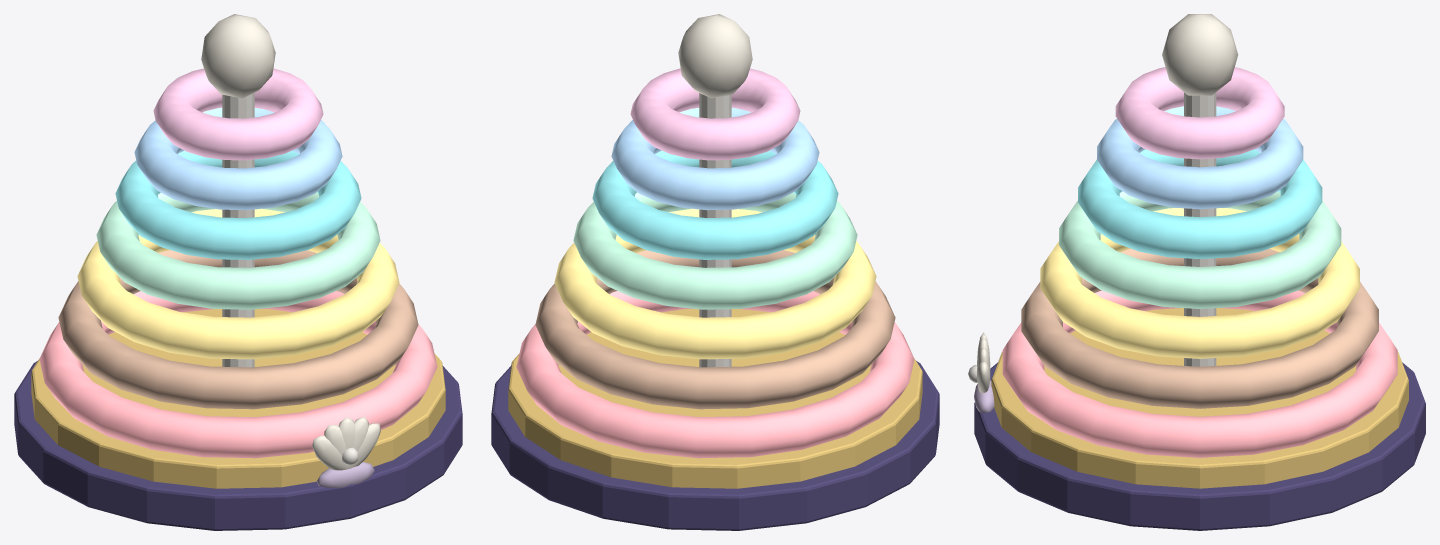
File: pearl_rainbow_stacker.glb
3 views of the same model, side by side, from view 1: azimuth 30°, elevation 25°; view 2: azimuth 150°, elevation 25°; view 3: azimuth 270°, elevation 25° (orthographic).
Visible parts, largest first — view 1: pearl_rainbow_stacker.001; view 2: pearl_rainbow_stacker.001; view 3: pearl_rainbow_stacker.001.
Boxes of the visible parts, x1=… form: pearl_rainbow_stacker.001: x1=14, y1=14, x2=462, y2=530; pearl_rainbow_stacker.001: x1=491, y1=14, x2=939, y2=530; pearl_rainbow_stacker.001: x1=968, y1=14, x2=1425, y2=530.
Bounding box in the file's own units: 4.5 × 4.64 × 4.56.
